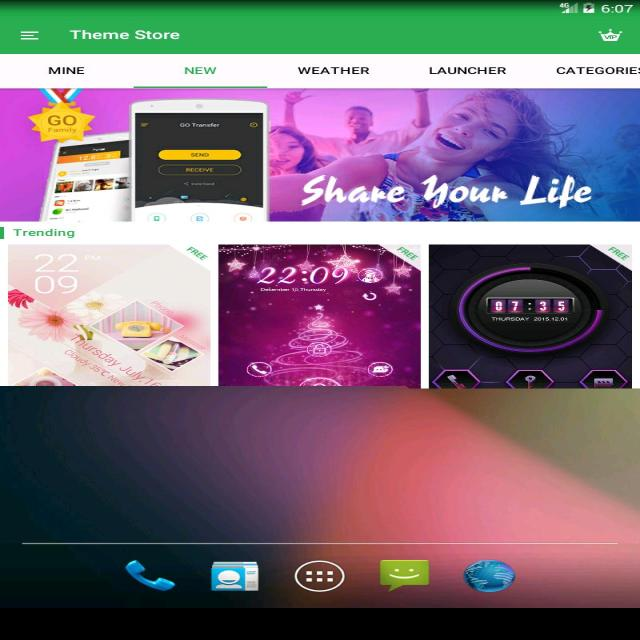button: (133, 60, 264, 87), (275, 59, 396, 88), (412, 57, 522, 87), (285, 554, 356, 598), (197, 556, 274, 596), (112, 556, 186, 596), (540, 58, 640, 86), (373, 555, 441, 595), (460, 555, 524, 596), (18, 59, 108, 85), (11, 24, 51, 48), (590, 26, 634, 45)
heading: (67, 26, 188, 46)
image: (2, 88, 640, 222), (431, 243, 632, 389), (10, 243, 212, 387), (222, 243, 422, 387)
text: (552, 62, 640, 78), (294, 63, 372, 78), (424, 63, 510, 76), (43, 64, 89, 76), (176, 63, 222, 74)
